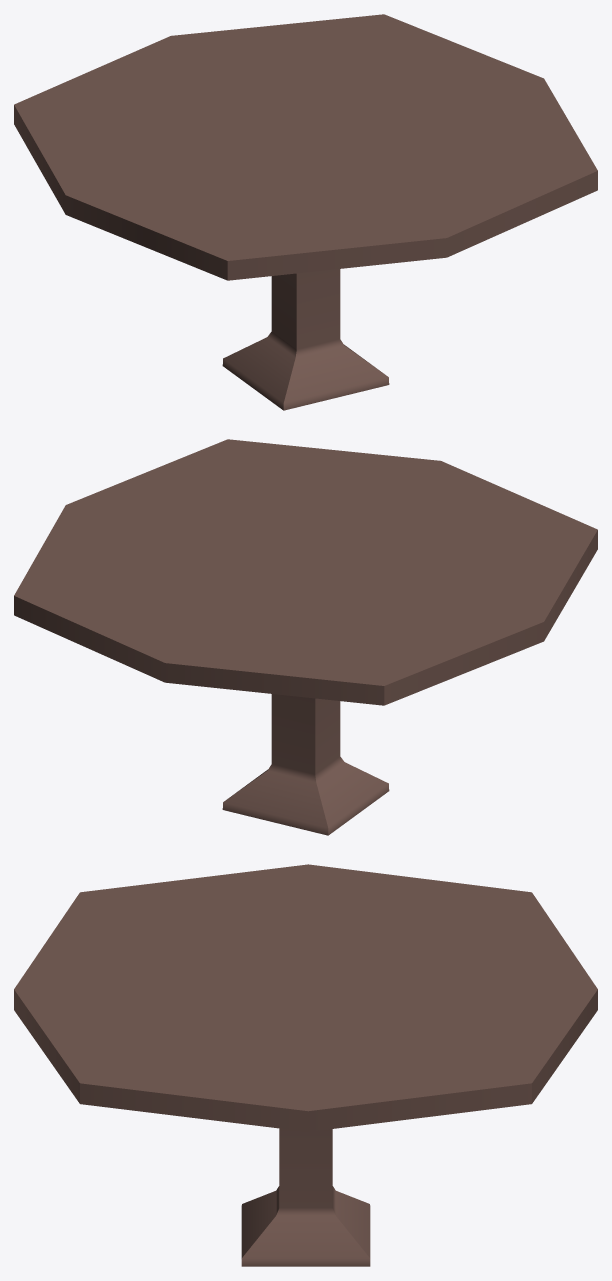
Rendered from Table.fbx.
The picture shows the model from 3 angles, top to bottom: view 1: azimuth 30°, elevation 25°; view 2: azimuth 150°, elevation 25°; view 3: azimuth 270°, elevation 25°; orthographic projection. The views are drawn at different scales.
Parts seen in each view (by area): view 1: Table; view 2: Table; view 3: Table.
Part boxes in pixels (left/top/right/bottom): Table: left=14, top=14, right=597, bottom=410; Table: left=14, top=439, right=597, bottom=835; Table: left=14, top=864, right=597, bottom=1266.
Size of the model in its own units: 4.38 by 2.08 by 4.38.
